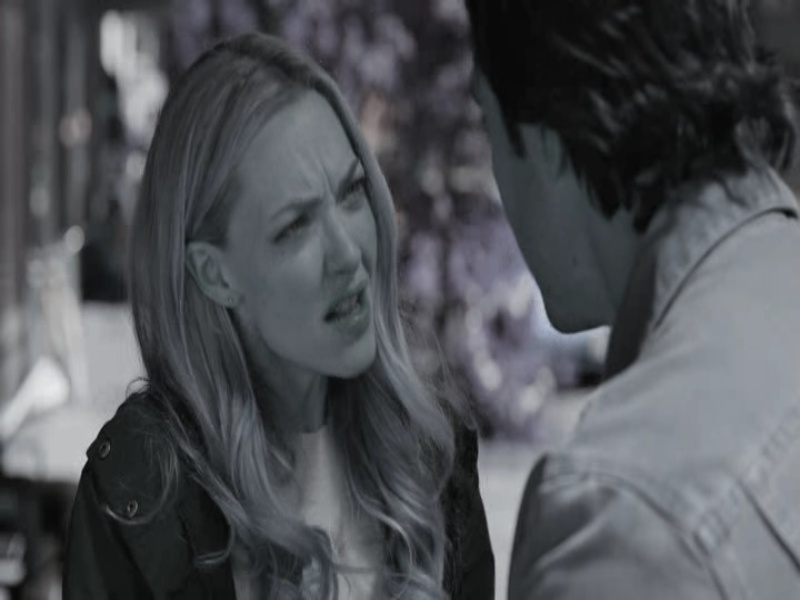TsisyArotava: (221, 100, 403, 387)
